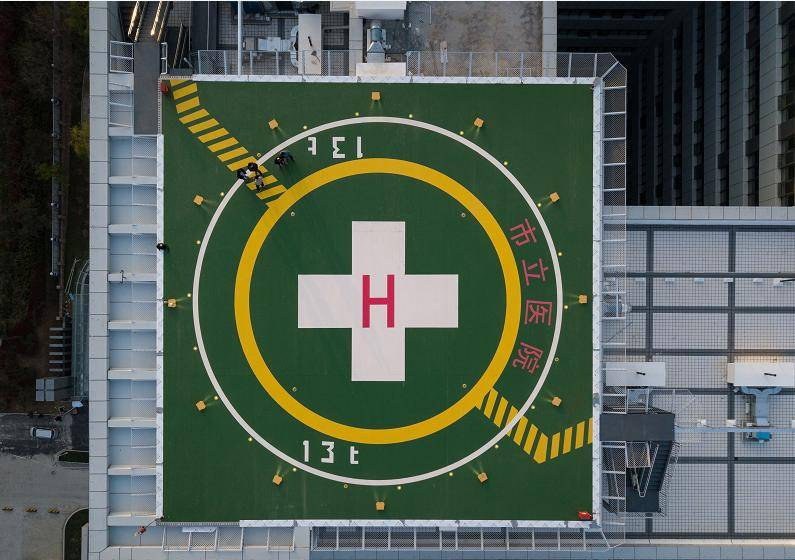H: (363, 275, 396, 330)
